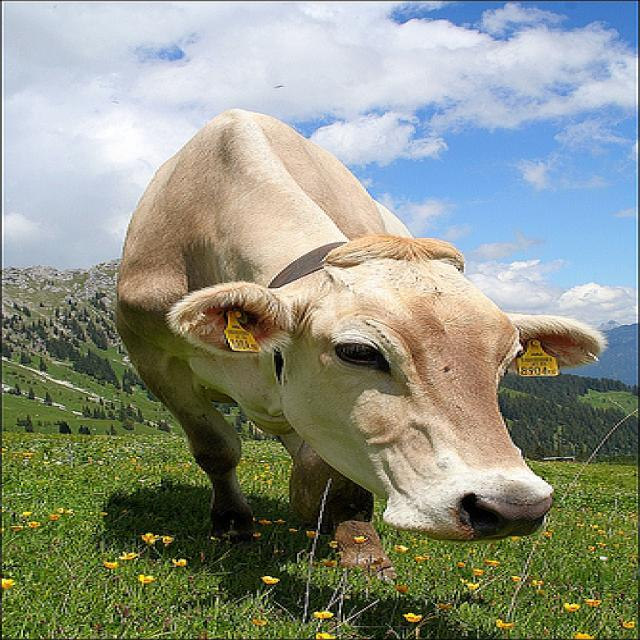cow: (108, 106, 608, 586)
